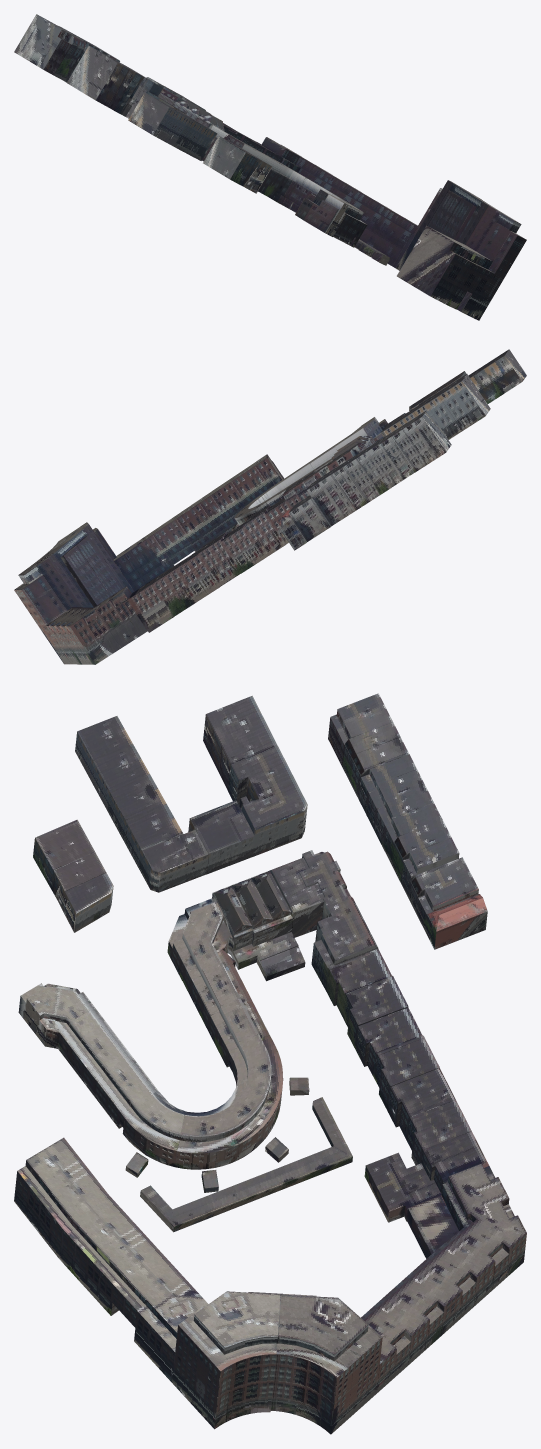
The model's file is 17-134312-27735-0-tex512.glb.
The picture shows the model from 3 angles, top to bottom: view 1: azimuth 30°, elevation 25°; view 2: azimuth 150°, elevation 25°; view 3: azimuth 270°, elevation 25°; orthographic projection. The views are drawn at different scales.
Visible parts, largest first — view 1: BAG_0599100000750038 (×2), BAG_0599100000750039, BAG_0599100000665636, BAG_0599100000665637, BAG_0599100000762412 (×2), BAG_0599100000670043, BAG_0599100000670037, BAG_0599100000665638, BAG_0599100000762405, BAG_0599100000670042, BAG_0599100000670038, BAG_0599100000670039 (+2 smaller); view 2: BAG_0599100000750039, BAG_0599100000750038, BAG_0599100000665636, BAG_0599100000665637, BAG_0599100000762421, BAG_0599100000762420, BAG_0599100000762419, BAG_0599100000665645, BAG_0599100000670037, BAG_0599100000762416, BAG_0599100000665644, BAG_0599100000762418 (+14 smaller); view 3: BAG_0599100000750039 (×2), BAG_0599100000750038, BAG_0599100000665638, BAG_0599100010055044, BAG_0599100000762421, BAG_0599100000682966, BAG_0599100000682961, BAG_0599100000665636, BAG_0599100000762408 (×2), BAG_0599100000665641, BAG_0599100000682958 (×2), BAG_0599100000682967 (+36 smaller).
Boxes of the visible parts, bbox=[...] form: BAG_0599100000750038 (×2): bbox=[397, 193, 526, 320]; BAG_0599100000750039: bbox=[257, 137, 490, 270]; BAG_0599100000665636: bbox=[67, 46, 135, 110]; BAG_0599100000665637: bbox=[14, 14, 72, 75]; BAG_0599100000762412 (×2): bbox=[295, 189, 347, 236]; BAG_0599100000670043: bbox=[203, 136, 256, 185]; BAG_0599100000670037: bbox=[128, 92, 179, 140]; BAG_0599100000665638: bbox=[108, 56, 163, 118]; BAG_0599100000762405: bbox=[272, 165, 304, 207]; BAG_0599100000670042: bbox=[177, 110, 210, 157]; BAG_0599100000670038: bbox=[159, 100, 189, 146]; BAG_0599100000670039: bbox=[166, 104, 199, 151]; BAG_0599100000750039: bbox=[14, 540, 147, 664]; BAG_0599100000750038: bbox=[47, 454, 283, 595]; BAG_0599100000665636: bbox=[426, 374, 490, 438]; BAG_0599100000665637: bbox=[401, 410, 451, 465]; BAG_0599100000762421: bbox=[127, 576, 173, 632]; BAG_0599100000762420: bbox=[152, 562, 196, 616]; BAG_0599100000762419: bbox=[175, 548, 219, 601]; BAG_0599100000665645: bbox=[242, 505, 285, 558]; BAG_0599100000670037: bbox=[483, 349, 526, 395]; BAG_0599100000762416: bbox=[219, 522, 263, 573]; BAG_0599100000665644: bbox=[288, 495, 330, 542]; BAG_0599100000762418: bbox=[197, 533, 240, 587]; BAG_0599100000750039 (×2): bbox=[270, 1163, 526, 1434]; BAG_0599100000750038: bbox=[14, 1137, 280, 1429]; BAG_0599100000665638: bbox=[228, 745, 307, 856]; BAG_0599100010055044: bbox=[140, 1097, 352, 1232]; BAG_0599100000762421: bbox=[366, 1131, 489, 1211]; BAG_0599100000682966: bbox=[232, 871, 305, 980]; BAG_0599100000682961: bbox=[270, 850, 353, 937]; BAG_0599100000665636: bbox=[203, 695, 276, 790]; BAG_0599100000762408 (×2): bbox=[119, 1090, 186, 1166]; BAG_0599100000665641: bbox=[311, 898, 378, 992]; BAG_0599100000682958 (×2): bbox=[167, 898, 232, 980]; BAG_0599100000682967: bbox=[139, 829, 208, 892].
Size of the model in its own units: 164 by 124 by 118.
Materials: 3 (2 with a texture image).
